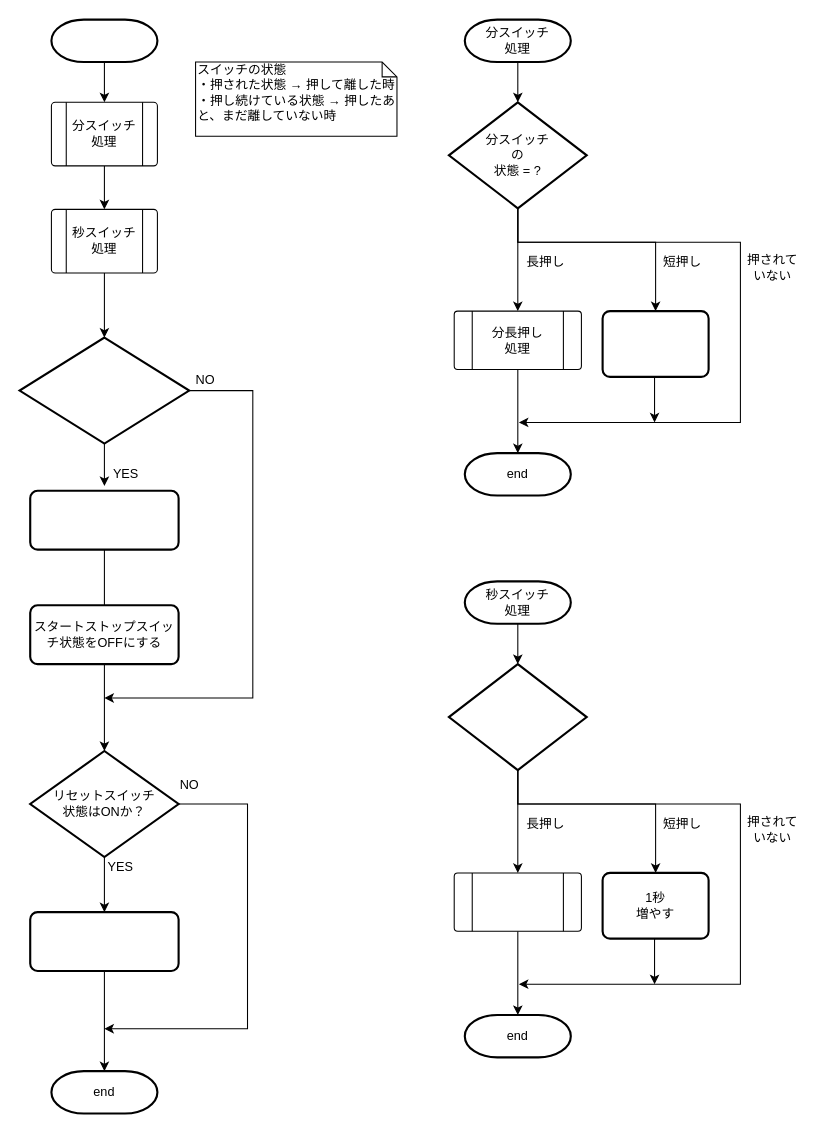
The diagram is 821 pixels wide and 1132 high, and some of its shapes have lost their labels. The shapes that lost their labels are listed below. From the top down, each one's centre as x and y in pixels, then its label:
At pixel 104 40: "カウント時間設定".
At pixel 655 343: "1分 増やす".
At pixel 104 390: "スタートストップ スイッチ状態は ONか".
At pixel 104 519: "キッチンタイマー状態を カウントダウン中 へ変更".
At pixel 517 716: "秒スイッチ の 状態 = ?".
At pixel 517 901: "秒長押し 処理".
At pixel 104 941: "キッチンタイマー状態を リセット動作 へ変更".
